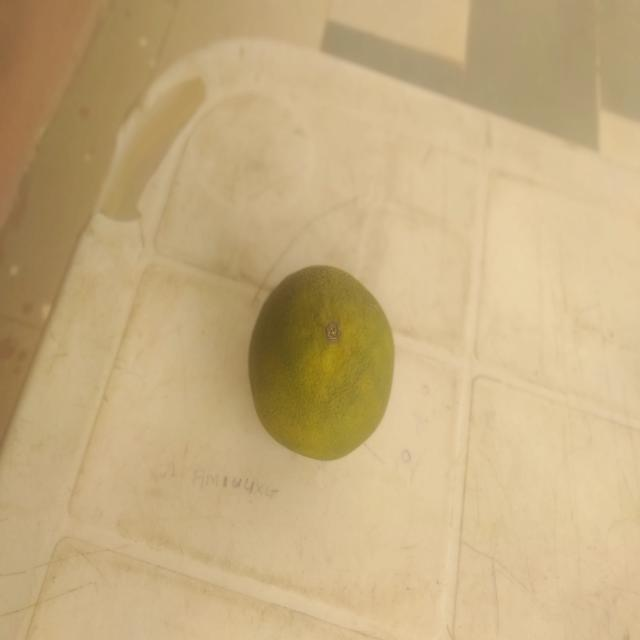Unripe: (219, 233, 432, 494)
